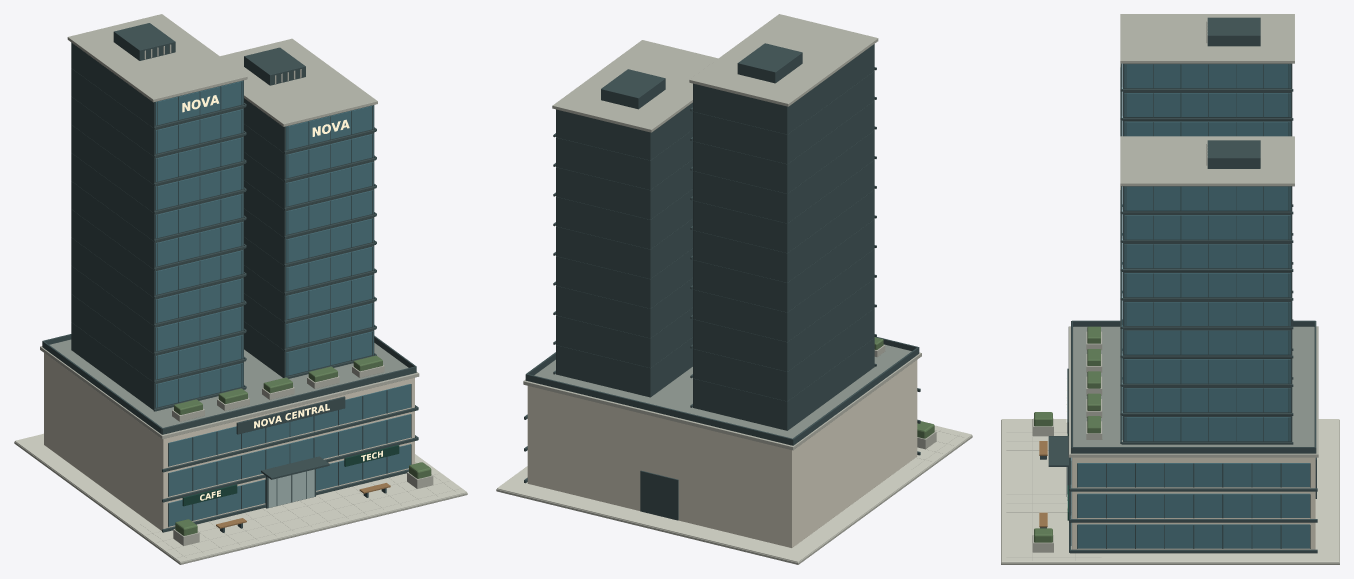
The model's file is large-8x8-twin-central-10.glb.
The picture shows the model from 3 angles, left to right: view 1: azimuth 30°, elevation 25°; view 2: azimuth 150°, elevation 25°; view 3: azimuth 270°, elevation 25°; orthographic projection. The views are drawn at different scales.
Parts seen in each view (by area): view 1: ShoppingPodium, Plaza, TowerCrown, TowerCrown.001, FrontGlass.001, FrontGlass.002, RoofGarden, FrontGlass, OfficeFloor.001, OfficeFloor.003, OfficeFloor.005, OfficeFloor.006 (+48 smaller); view 2: ShoppingPodium, TowerCrown, Plaza, TowerCrown.001, OfficeFloor.008, OfficeFloor.005, OfficeFloor.003, OfficeFloor.009, OfficeFloor.001, OfficeFloor.006, OfficeFloor.007, OfficeFloor.002 (+20 smaller); view 3: Plaza, RoofGarden, TowerCrown.001, TowerCrown, SideGlass.001, SideGlass, SideGlass.002, ShoppingPodium, TowerSideGlass.013, TowerSideGlass.018, TowerSideGlass.009, TowerSideGlass.010 (+40 smaller).
Part boxes in pixels (x1,y1,x2,y2): ShoppingPodium: (44, 353, 414, 530); Plaza: (15, 433, 466, 562); TowerCrown: (67, 14, 247, 102); TowerCrown.001: (220, 38, 377, 126); FrontGlass.001: (168, 414, 410, 496); FrontGlass.002: (168, 384, 410, 466); RoofGarden: (49, 339, 408, 427); FrontGlass: (168, 444, 410, 526); OfficeFloor.001: (71, 294, 243, 381); OfficeFloor.003: (71, 237, 243, 325); OfficeFloor.005: (71, 181, 243, 268); OfficeFloor.006: (71, 153, 243, 240); ShoppingPodium: (527, 360, 917, 547); TowerCrown: (689, 14, 878, 106); Plaza: (497, 425, 971, 562); TowerCrown.001: (552, 40, 717, 132); OfficeFloor.008: (693, 100, 874, 193); OfficeFloor.005: (693, 189, 874, 282); OfficeFloor.003: (693, 249, 874, 341); OfficeFloor.009: (693, 71, 874, 164); OfficeFloor.001: (693, 308, 874, 401); OfficeFloor.006: (693, 160, 874, 252); OfficeFloor.007: (693, 130, 874, 223); OfficeFloor.002: (693, 278, 874, 371); Plaza: (1001, 419, 1339, 562); RoofGarden: (1073, 326, 1314, 446); TowerCrown.001: (1120, 136, 1294, 186); TowerCrown: (1120, 14, 1294, 63); SideGlass.001: (1077, 493, 1309, 517); SideGlass: (1077, 524, 1309, 548); SideGlass.002: (1077, 463, 1309, 487); ShoppingPodium: (1072, 457, 1315, 549); TowerSideGlass.013: (1124, 359, 1290, 383); TowerSideGlass.018: (1124, 215, 1290, 239); TowerSideGlass.009: (1124, 93, 1290, 117); TowerSideGlass.010: (1124, 64, 1290, 88).
Bounding box in the file's own units: 32 × 45.27 × 32.
